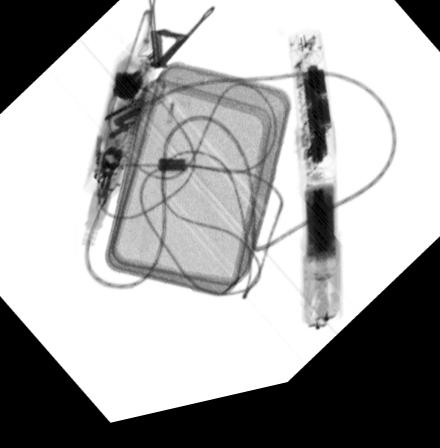Baton: (286, 38, 345, 345)
